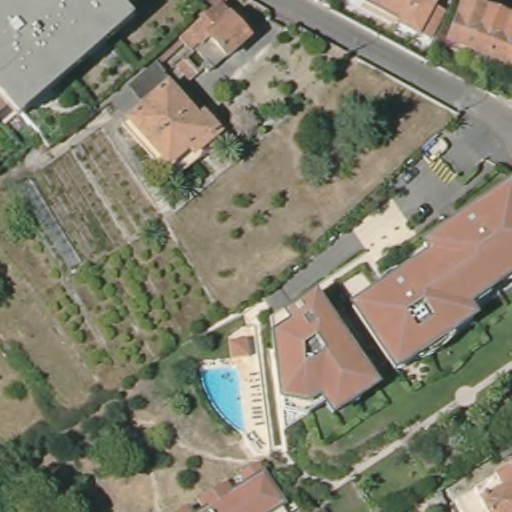pool: (198, 365, 249, 435)
